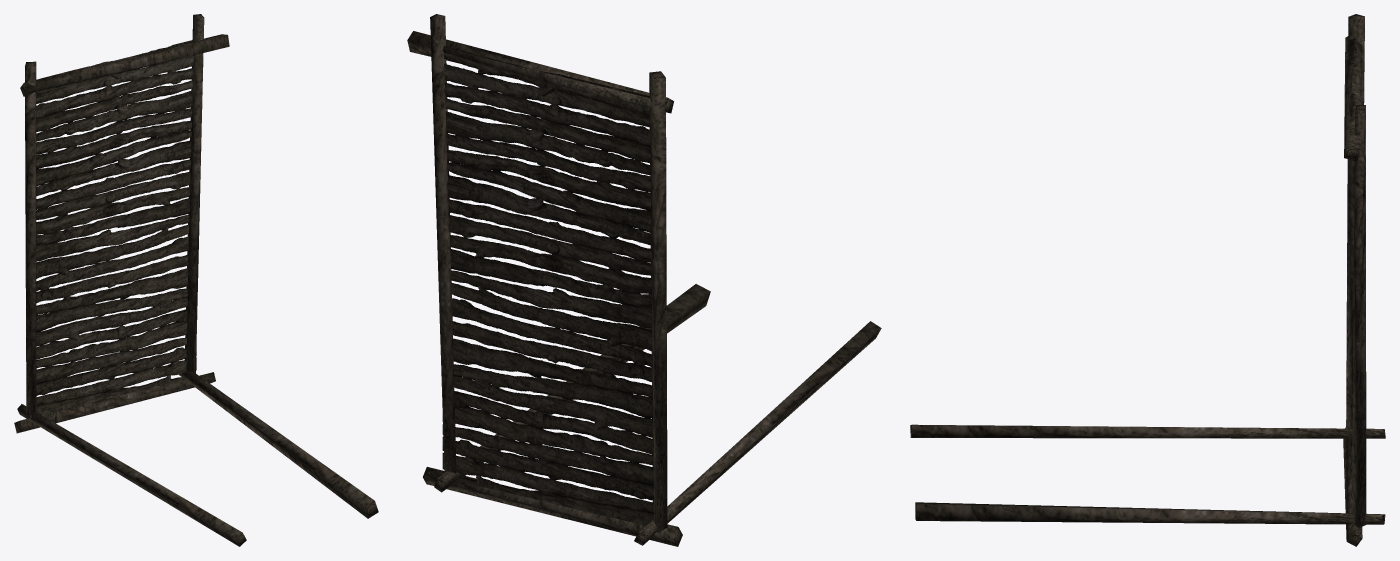
The model's file is MEP_Walk_03_LOD_01.fbx.
3 renders of one model, left to right at view 1: azimuth 30°, elevation 25°; view 2: azimuth 150°, elevation 25°; view 3: azimuth 270°, elevation 25°, orthographic. The views are drawn at different scales.
Parts seen in each view (by area): view 1: MEP_Walk_03_LOD_01; view 2: MEP_Walk_03_LOD_01; view 3: MEP_Walk_03_LOD_01.
Boxes of the visible parts, x1,y1,x2,y2 form: MEP_Walk_03_LOD_01: (14, 14, 378, 546); MEP_Walk_03_LOD_01: (407, 14, 881, 546); MEP_Walk_03_LOD_01: (910, 14, 1385, 546).
Bounding box in the file's own units: 3.28 × 5.57 × 5.5.
